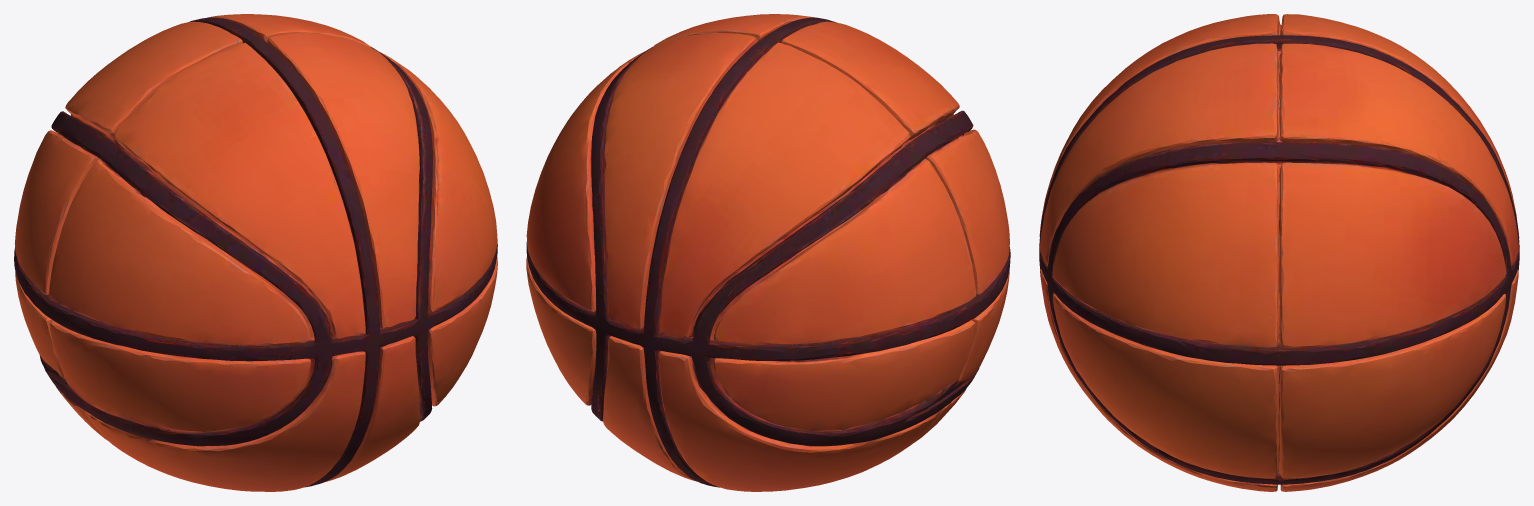
Rendered from basketball.glb.
3 renders of one model, left to right at view 1: azimuth 30°, elevation 25°; view 2: azimuth 150°, elevation 25°; view 3: azimuth 270°, elevation 25°, orthographic.
Parts seen in each view (by area): view 1: Mesh; view 2: Mesh; view 3: Mesh.
Part boxes in pixels (bbox=[...]): Mesh: bbox=[14, 14, 497, 491]; Mesh: bbox=[526, 14, 1010, 491]; Mesh: bbox=[1039, 14, 1519, 491].
Bounding box in the file's own units: 1 × 0.9806 × 0.9878.
1 material, 1 textured.
